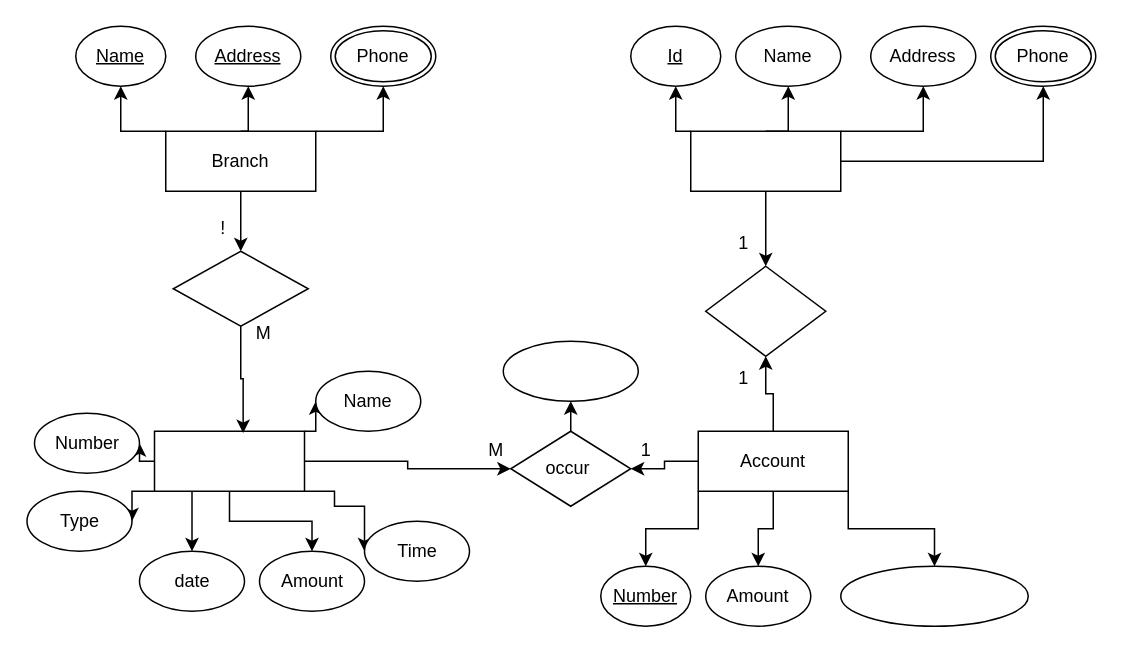
This 1122x653 diagram has some shape labels left out. Each missing label, with the box of its shape:
BranchName: (502, 340, 638, 401)
Customer: (689, 130, 841, 191)
Handle: (172, 250, 308, 326)
LastTransactionDate: (839, 565, 1028, 626)
Own: (704, 265, 826, 356)
Transaction: (153, 430, 304, 491)
